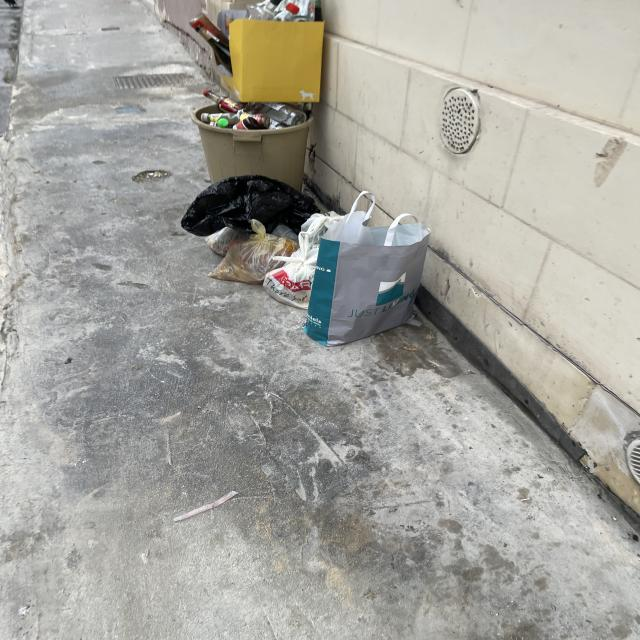black_bag: (178, 174, 319, 234)
other_waste: (319, 199, 435, 343), (189, 0, 342, 108), (189, 91, 314, 198)
white_bag: (262, 232, 338, 308), (206, 230, 296, 283), (294, 211, 348, 247), (200, 227, 250, 251)
